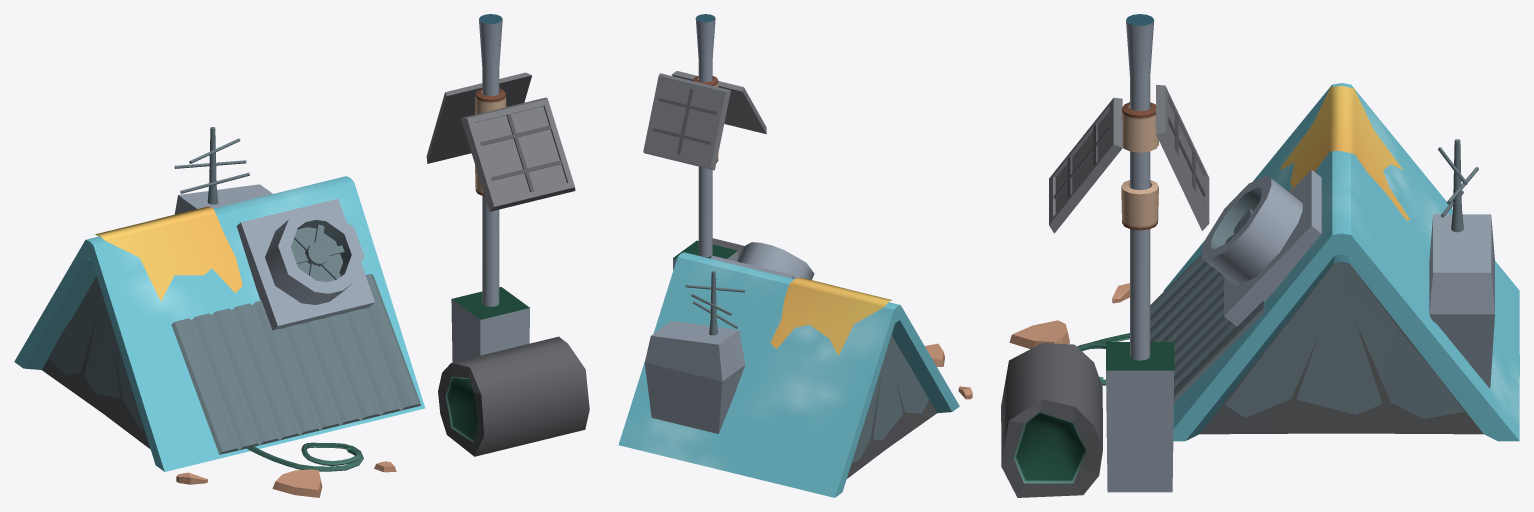
File: BO_House_03_4x4x4.fbx
The picture shows the model from 3 angles, left to right: view 1: azimuth 30°, elevation 25°; view 2: azimuth 150°, elevation 25°; view 3: azimuth 270°, elevation 25°; orthographic projection. The views are drawn at different scales.
Parts seen in each view (by area): view 1: BO_House_03_4x4x4; view 2: BO_House_03_4x4x4; view 3: BO_House_03_4x4x4.
Boxes of the visible parts, x1,y1,x2,y2 form: BO_House_03_4x4x4: (14, 14, 589, 497); BO_House_03_4x4x4: (618, 14, 972, 497); BO_House_03_4x4x4: (1001, 14, 1519, 497).
Size of the model in its own units: 380 by 386 by 395.
Materials: 1 (1 with a texture image).
